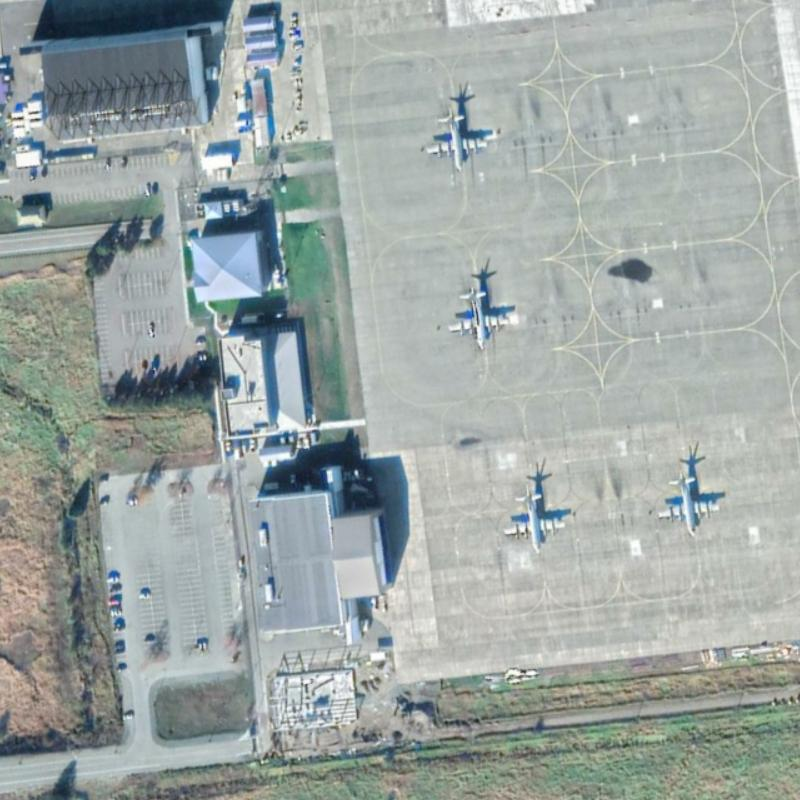A9: (499, 479, 568, 555), (653, 466, 722, 540), (421, 104, 489, 173), (444, 283, 512, 350)
